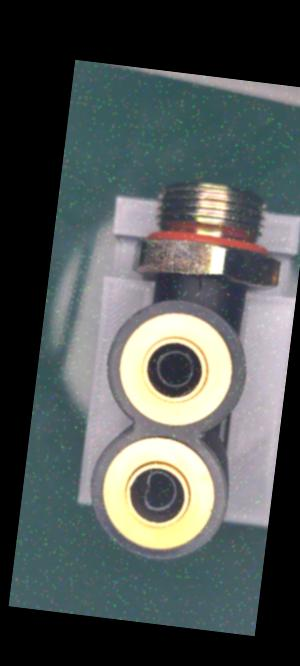craze: (186, 272, 212, 297)
off-centered: (129, 461, 190, 520)
